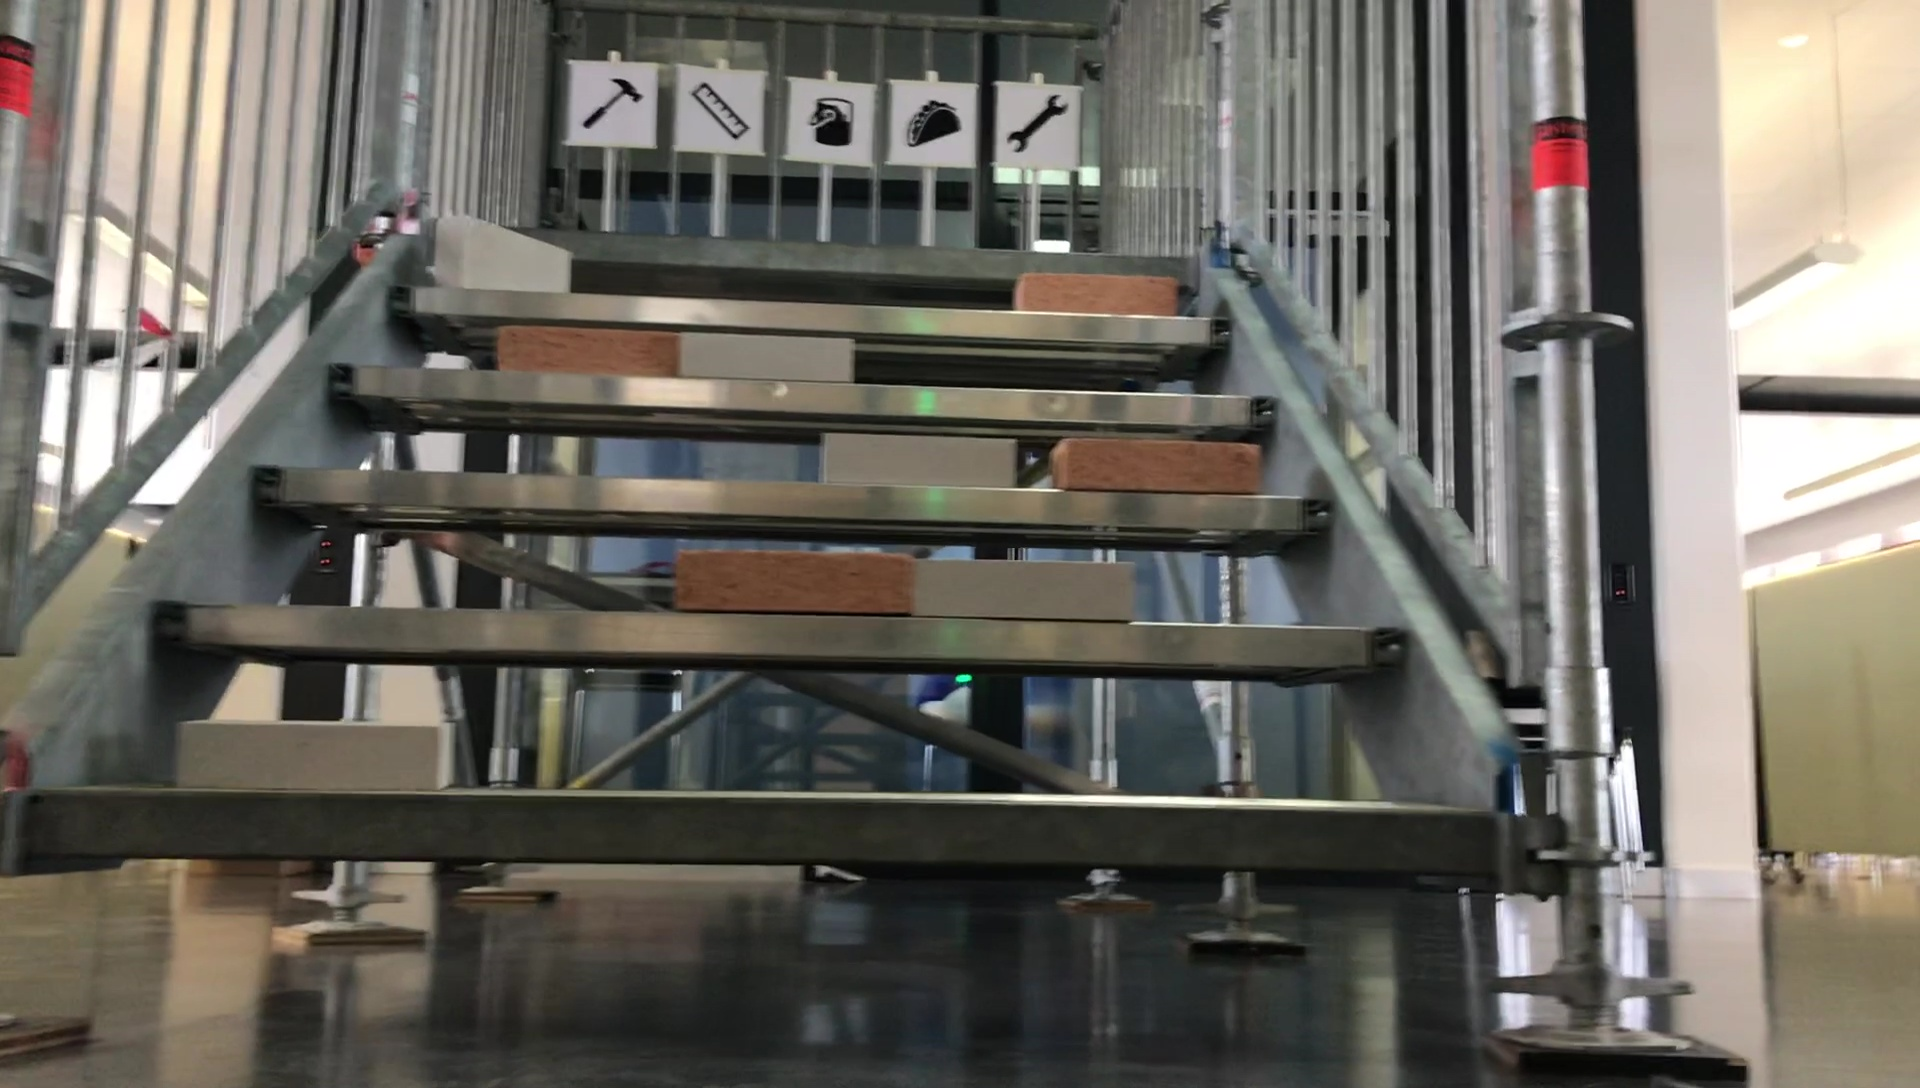brick: (193, 716, 444, 789), (678, 543, 899, 620), (909, 550, 1142, 622), (1046, 440, 1263, 495), (425, 219, 575, 295), (810, 433, 1021, 487), (492, 324, 684, 378), (684, 332, 862, 378), (1006, 276, 1195, 313)
bucket: (800, 94, 858, 149)
edge: (29, 787, 1509, 886), (247, 467, 1328, 539), (382, 285, 1212, 342), (425, 228, 1207, 286), (157, 622, 1408, 653), (336, 371, 1269, 404)
hammer: (578, 73, 638, 131)
ruler: (692, 79, 760, 141)
stairs: (0, 0, 1651, 1055)
steps: (26, 249, 1545, 906)
taco: (905, 92, 964, 150)
wrench: (1010, 98, 1073, 156)
